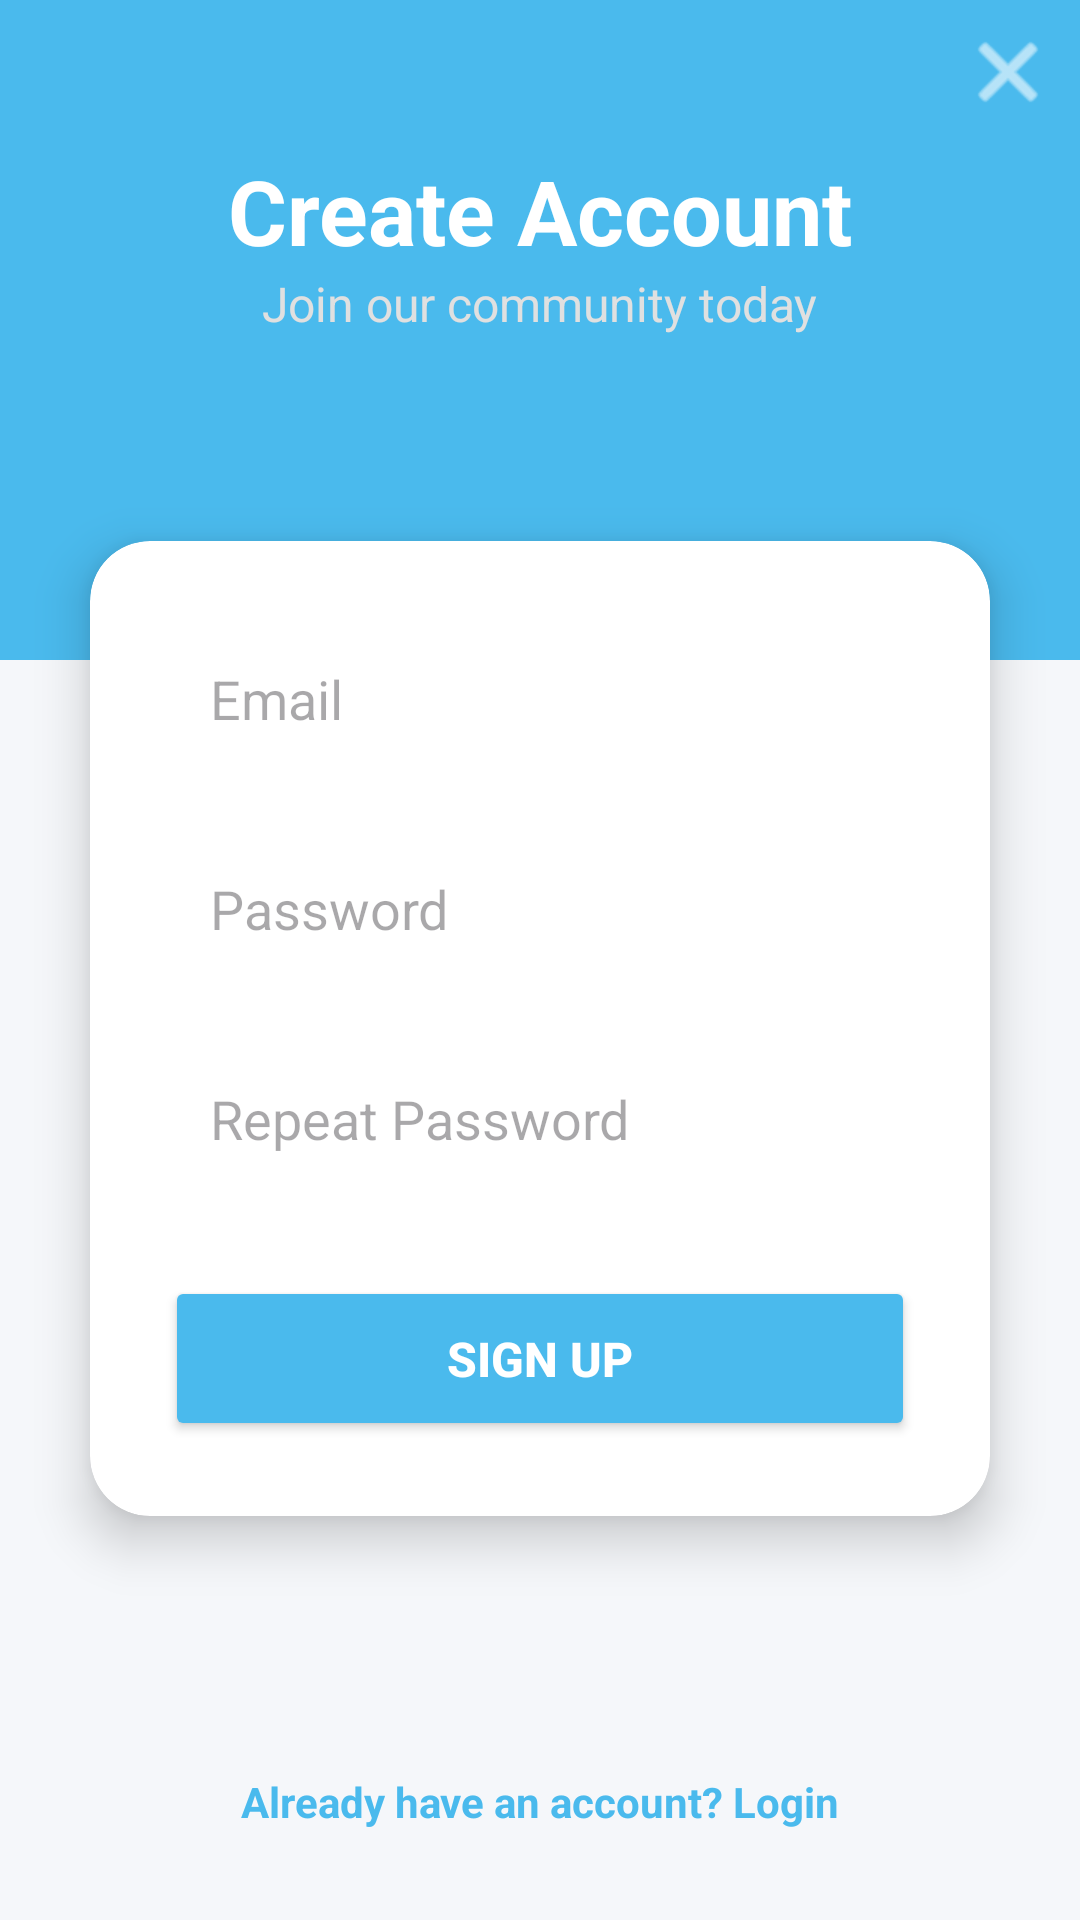

Icons on this 1080x1920 Android screen, each with the point to tap as (x,y):
Skip login: (1008,72)
